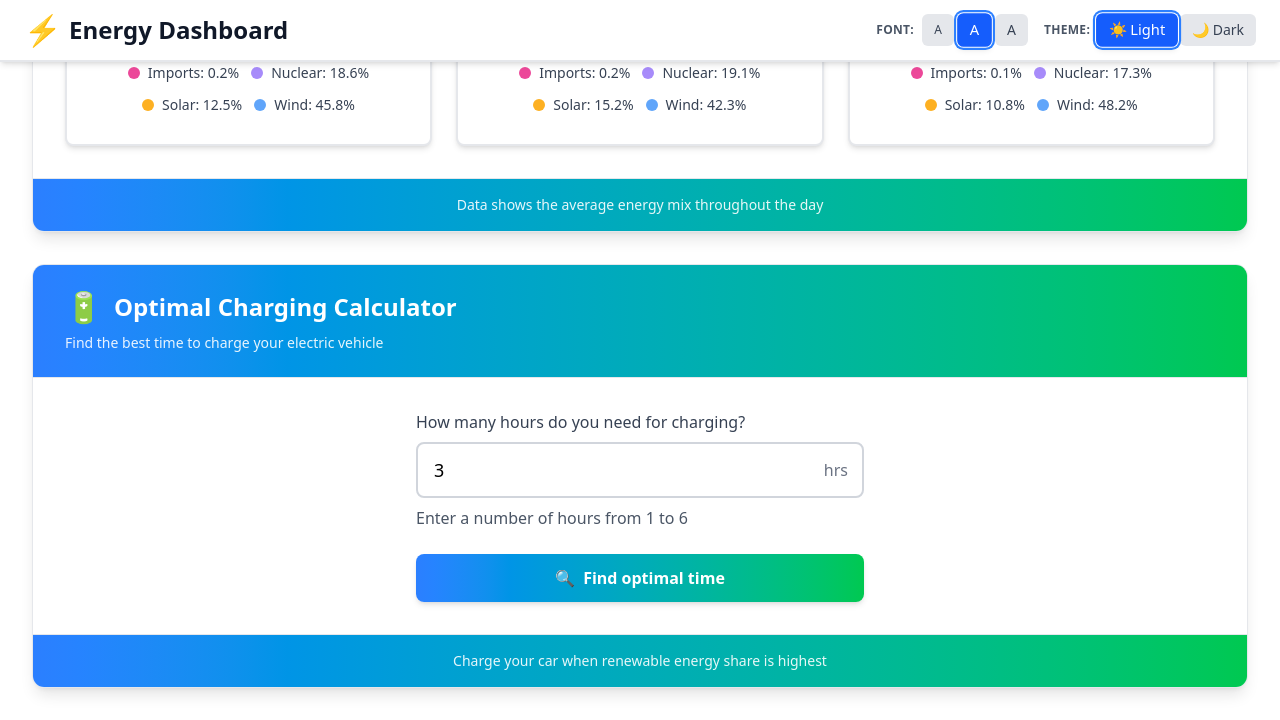
Optimal Charging Calculator › Form validation › should handle invalid input - negative number
This screenshot has width=1280, height=720.
(page scrolled)
Replace the text in the number field with id "charging-hours" with "-1" at (640, 470), box [416,442,864,498]
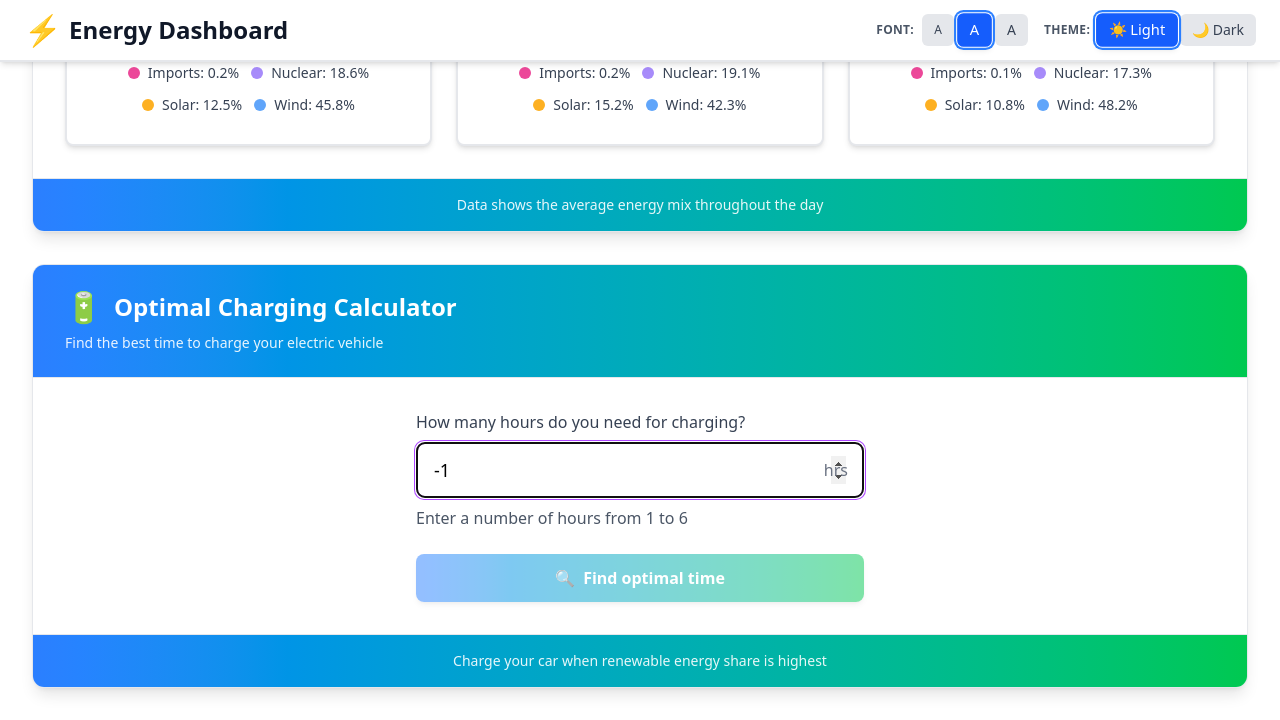
Expected: the button "🔍 Find optimal time" is disabled, [416,554,864,602]
